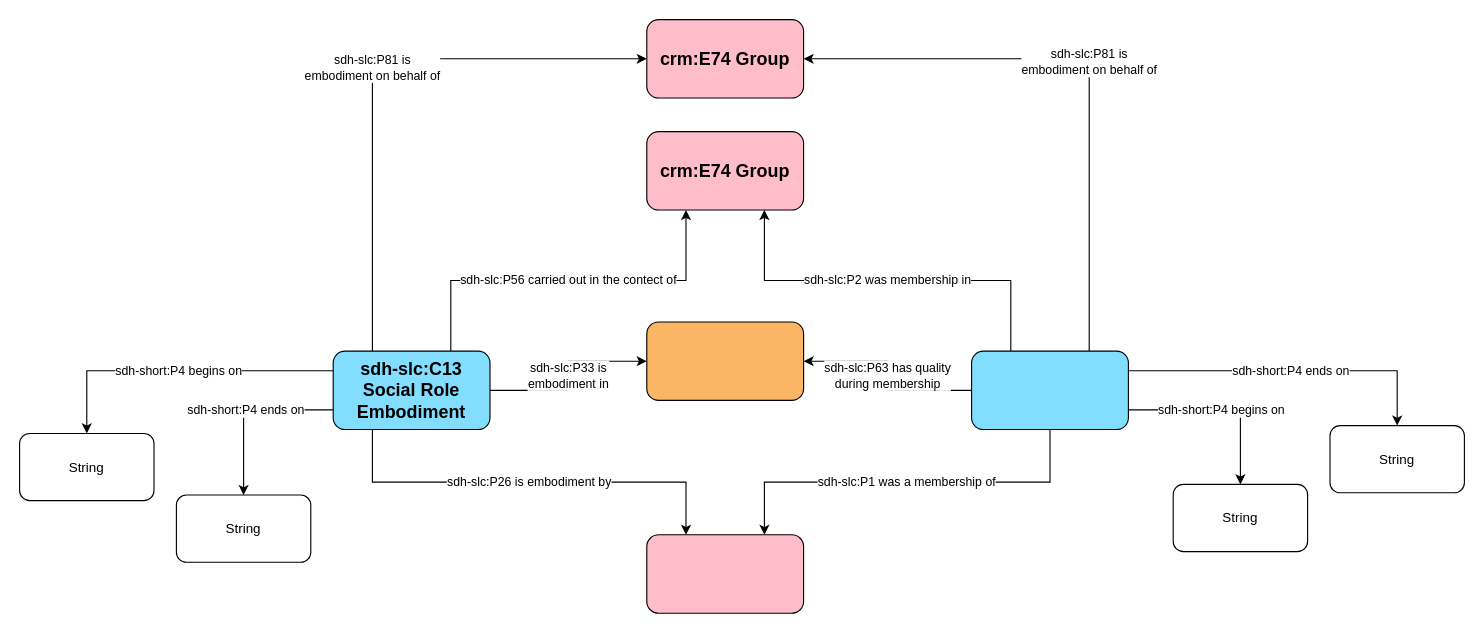
This 1484x633 diagram has some shape labels left out. Each missing label, with the box of its shape:
crm:E21 Person: (646, 534, 804, 613)
sdh-slc:C12 Actor's Social Role: (646, 321, 804, 400)
sdh-slc:C5 Membership: (970, 350, 1128, 430)
